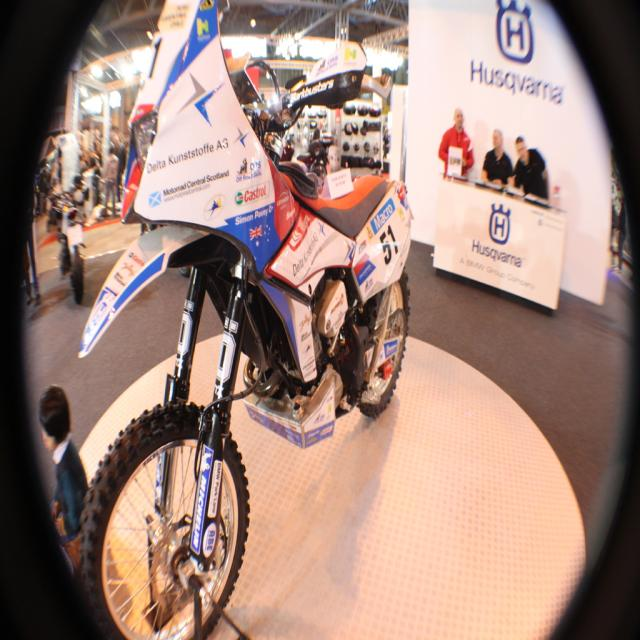Motorbikes: (68, 1, 418, 640)
